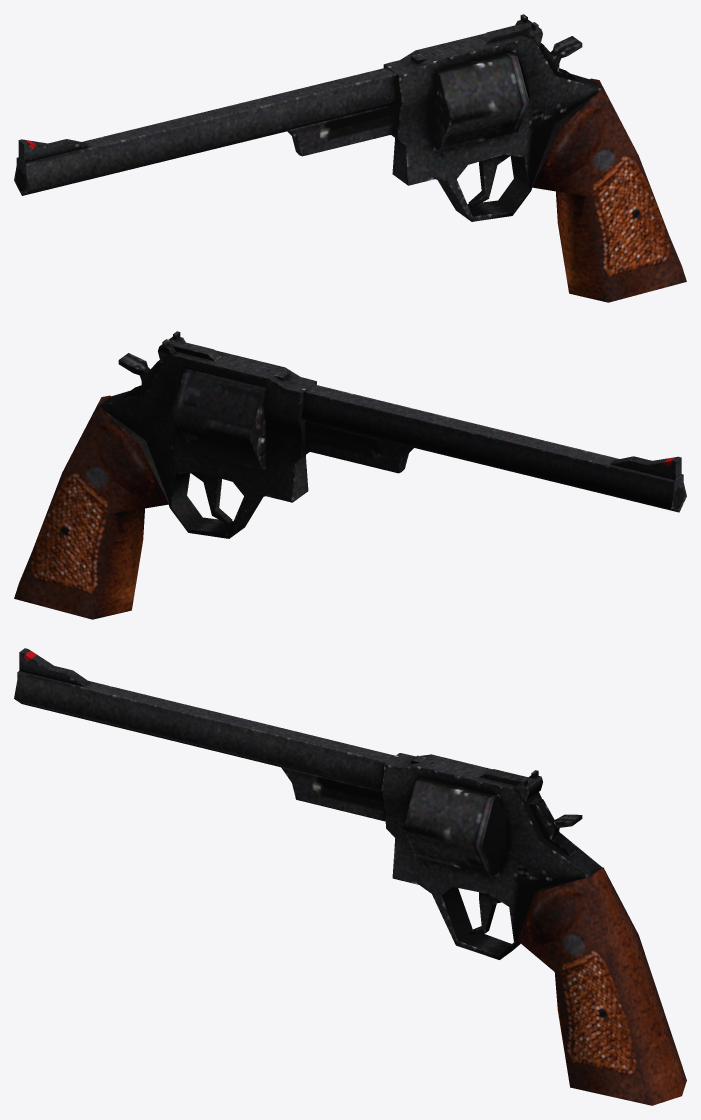
The model's file is GunM29.fbx.
3 renders of one model, top to bottom at view 1: azimuth 30°, elevation 25°; view 2: azimuth 150°, elevation 25°; view 3: azimuth 330°, elevation 25°, orthographic.
Parts seen in each view (by area): view 1: 立方体, 立方体.001, 円, 円.001, 立方体.004, 円.002, 立方体.005, 立方体.003, 立方体.002; view 2: 立方体, 立方体.001, 円, 円.001, 立方体.004, 円.002, 立方体.005, 立方体.003, 立方体.002; view 3: 立方体, 立方体.001, 円, 円.001, 立方体.004, 立方体.003, 円.002, 立方体.005.
Boxes of the visible parts, bbox=[...] form: 立方体: bbox=[531, 78, 686, 302]; 立方体.001: bbox=[383, 33, 601, 221]; 円: bbox=[14, 67, 399, 195]; 円.001: bbox=[435, 52, 530, 151]; 立方体.004: bbox=[287, 104, 395, 156]; 円.002: bbox=[18, 139, 89, 162]; 立方体.005: bbox=[479, 14, 542, 44]; 立方体.003: bbox=[537, 36, 582, 79]; 立方体.002: bbox=[468, 154, 510, 207]; 立方体: bbox=[14, 395, 169, 619]; 立方体.001: bbox=[99, 350, 316, 538]; 円: bbox=[301, 384, 686, 512]; 円.001: bbox=[170, 369, 265, 468]; 立方体.004: bbox=[305, 421, 413, 473]; 円.002: bbox=[610, 456, 681, 480]; 立方体.005: bbox=[158, 331, 221, 361]; 立方体.003: bbox=[118, 353, 163, 396]; 立方体.002: bbox=[190, 471, 232, 524]; 立方体: bbox=[517, 867, 686, 1105]; 立方体.001: bbox=[381, 753, 601, 959]; 円: bbox=[14, 671, 395, 790]; 円.001: bbox=[403, 777, 505, 875]; 立方体.004: bbox=[280, 766, 385, 821]; 立方体.003: bbox=[529, 798, 582, 856]; 円.002: bbox=[19, 648, 90, 686]; 立方体.005: bbox=[479, 769, 542, 801].
Bounding box in the file's own units: 1926 × 794 × 244.
1 material, 1 textured.
